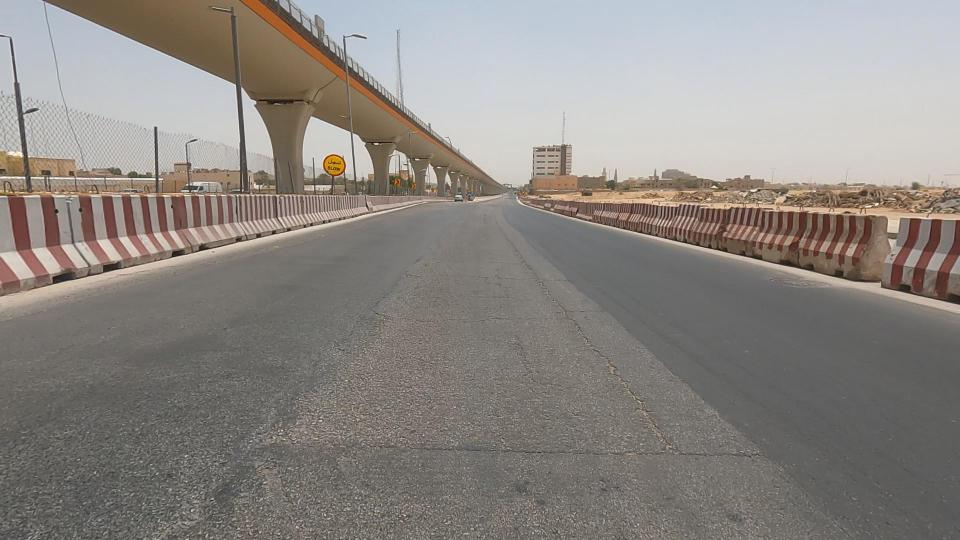CONSTRUCTION_ROAD: (0, 111, 208, 289), (111, 145, 320, 262), (641, 185, 864, 282), (569, 164, 723, 260), (254, 160, 420, 246), (504, 182, 604, 232)
